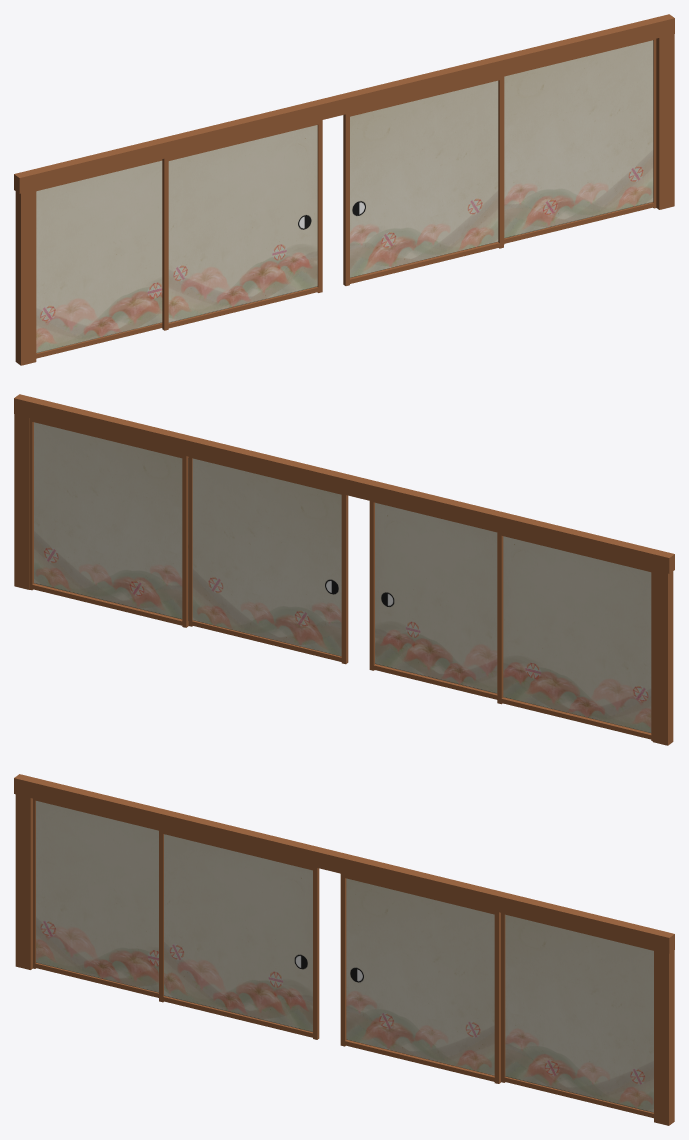
The model's file is door.fbx.
3 views of the same model, one above another, from view 1: azimuth 30°, elevation 25°; view 2: azimuth 150°, elevation 25°; view 3: azimuth 330°, elevation 25° (orthographic).
Parts seen in each view (by area): view 1: pPlane1, pPlane3, pPlane4, pPlane2, top, left, pCube10 (×4), right, pCube21 (×3), pCube8 (×2), pCube9 (×2); view 2: pPlane4, pPlane1, pPlane2, pPlane3, top, pCube8 (×4), pCube10 (×4), left, right, pCube21 (×2), pCube9 (×2); view 3: pPlane1, pPlane3, pPlane4, pPlane2, top, pCube10 (×4), right, pCube8 (×3), left, pCube21 (×2), pCube9 (×2).
Part boxes in pixels (x1,y1,x2,y2): pPlane1: (504,40,653,238); pPlane3: (168,125,317,322); pPlane4: (350,80,498,277); pPlane2: (36,160,162,353); top: (14,14,674,193); left: (15,190,36,365); pCube10 (×4): (36,202,655,358); right: (656,34,674,209); pCube21 (×3): (162,39,656,330); pCube8 (×2): (317,114,349,292); pCube9 (×2): (167,76,501,160); pPlane4: (192,458,341,656); pPlane1: (34,422,188,620); pPlane2: (503,536,651,732); pPlane3: (375,502,497,693); top: (14,394,674,573); pCube8 (×4): (182,456,503,704); pCube10 (×4): (30,583,652,739); left: (652,570,673,745); right: (14,414,29,589); pCube21 (×2): (30,418,192,626); pCube9 (×2): (30,418,652,572); pPlane1: (505,914,653,1112); pPlane3: (164,834,312,1031); pPlane4: (346,878,494,1075); pPlane2: (36,801,158,992); top: (14,774,674,953); pCube10 (×4): (33,963,653,1118); right: (654,950,674,1125); pCube8 (×3): (313,867,505,1082); left: (15,794,32,969); pCube21 (×2): (159,829,500,1083); pCube9 (×2): (161,830,495,914).
Size of the model in its own units: 665 by 182 by 9.76.
